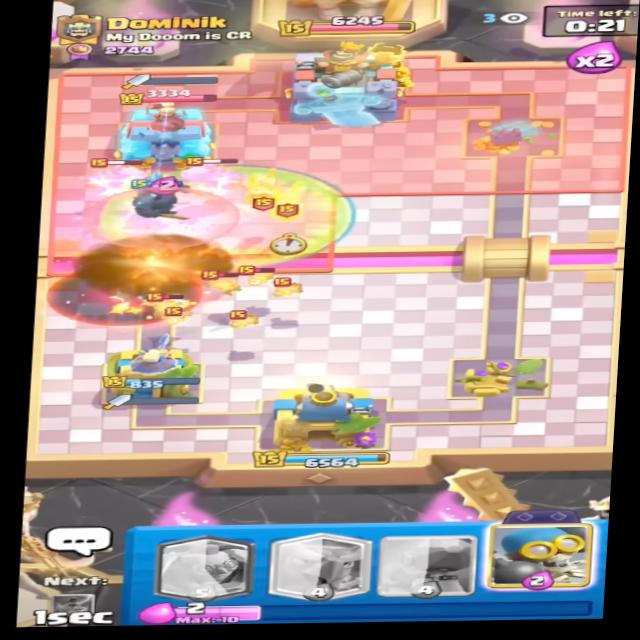skeleton-dragon: (176, 155, 244, 202), (82, 159, 151, 199)
void: (43, 264, 197, 328)
